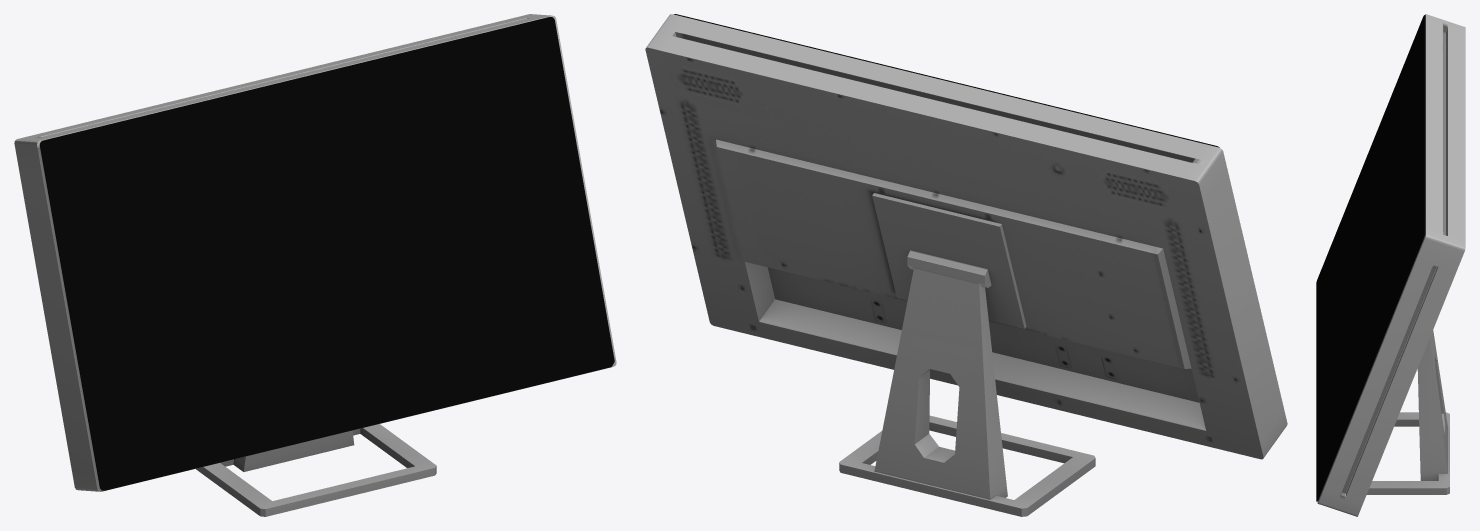
The model's file is UTC-520st.fbx.
The picture shows the model from 3 angles, left to right: view 1: azimuth 30°, elevation 25°; view 2: azimuth 150°, elevation 25°; view 3: azimuth 270°, elevation 25°; orthographic projection. The views are drawn at different scales.
Parts seen in each view (by area): view 1: B, A; view 2: B, A; view 3: B, A.
Part boxes in pixels (x1,y1,x2,y2): B: [14, 14, 616, 491]; A: [196, 424, 436, 516]; B: [645, 14, 1287, 459]; A: [839, 193, 1095, 516]; B: [1316, 14, 1465, 516]; A: [1366, 330, 1449, 494].
Bounding box in the file's own units: 51.96 × 36.18 × 14.73.
